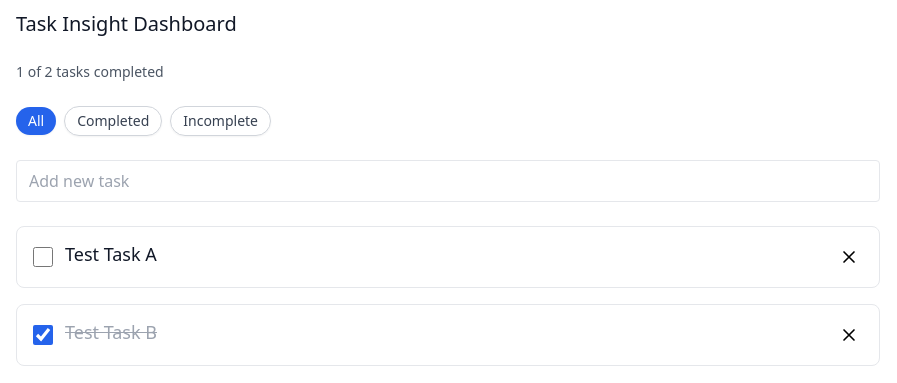
Test: <App /> › toggle completion behavior › toggling a task while filtered by Incomplete removes it from view
The image size is (897, 383).
What coordinates should you click on to do the following:
click the radio button labelled "Incomplete"
I would click on:
 (221, 121)
Its box is 170,106 -> 271,136.
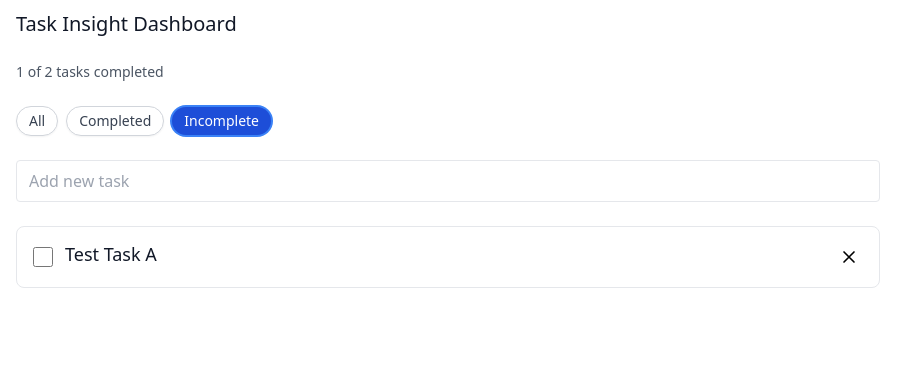
expect the list item "Test Task A" is shown: met, box 16,226 -> 880,288
What coordinates should you click on to do the following:
click the checkbox
I would click on:
 (43, 257)
Its box is 33,247 -> 53,267.
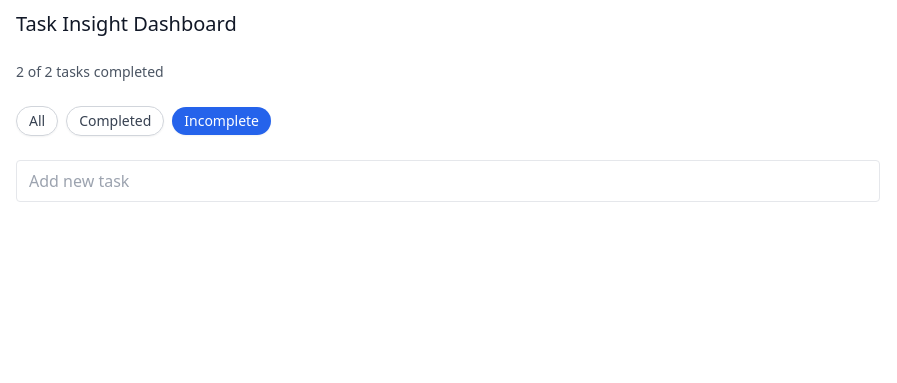
expect the heading "Test Task A" is gone: met
